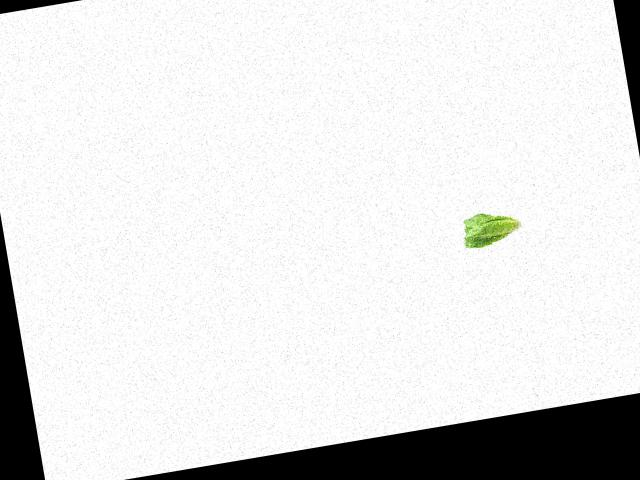lettuce: (456, 201, 527, 255)
